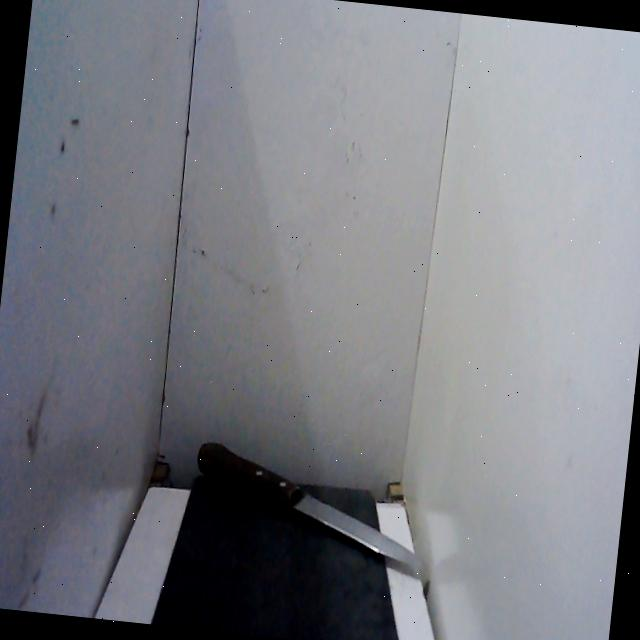metal: (284, 476, 438, 588)
